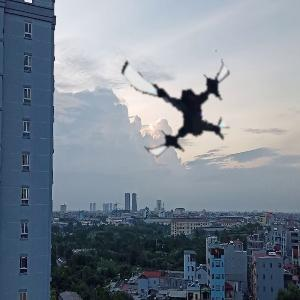drone: (114, 35, 244, 165)
